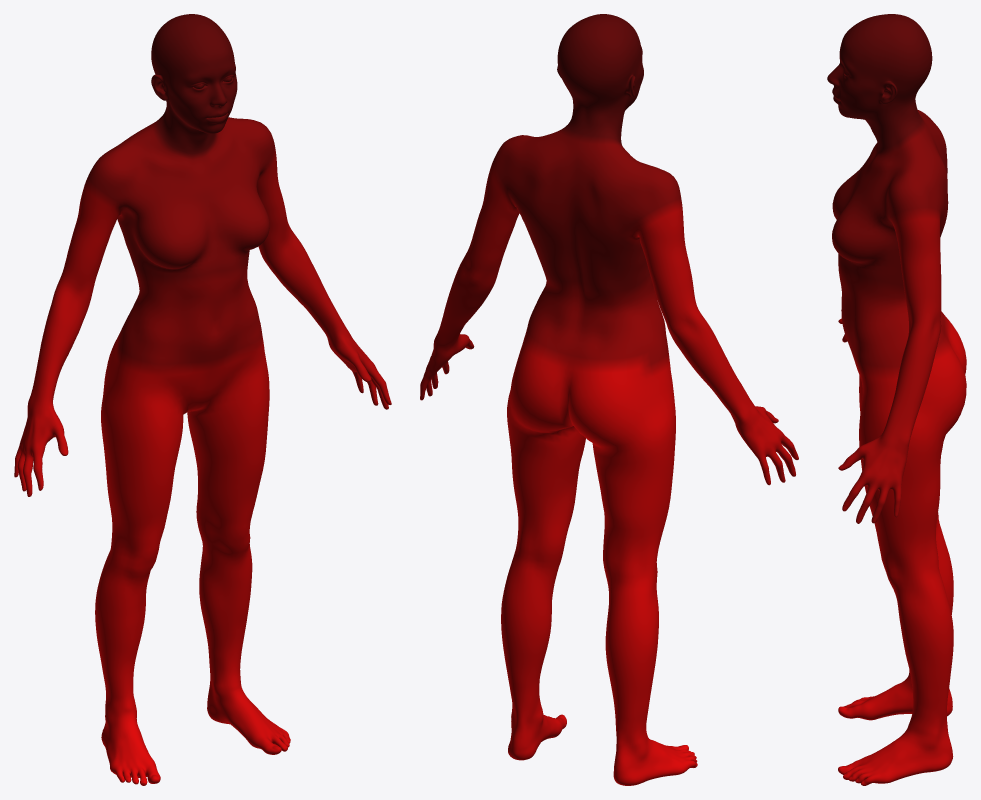
The model's file is body_female.glb.
3 views of the same model, side by side, from view 1: azimuth 30°, elevation 25°; view 2: azimuth 150°, elevation 25°; view 3: azimuth 270°, elevation 25° (orthographic).
Parts seen in each view (by area): view 1: GEO-body_female_realistic; view 2: GEO-body_female_realistic; view 3: GEO-body_female_realistic.
Boxes of the visible parts, x1,y1,x2,y2 form: GEO-body_female_realistic: (14,14,391,785); GEO-body_female_realistic: (420,14,798,785); GEO-body_female_realistic: (827,14,966,785).
Size of the model in its own units: 0.8423 by 1.64 by 0.2839.
